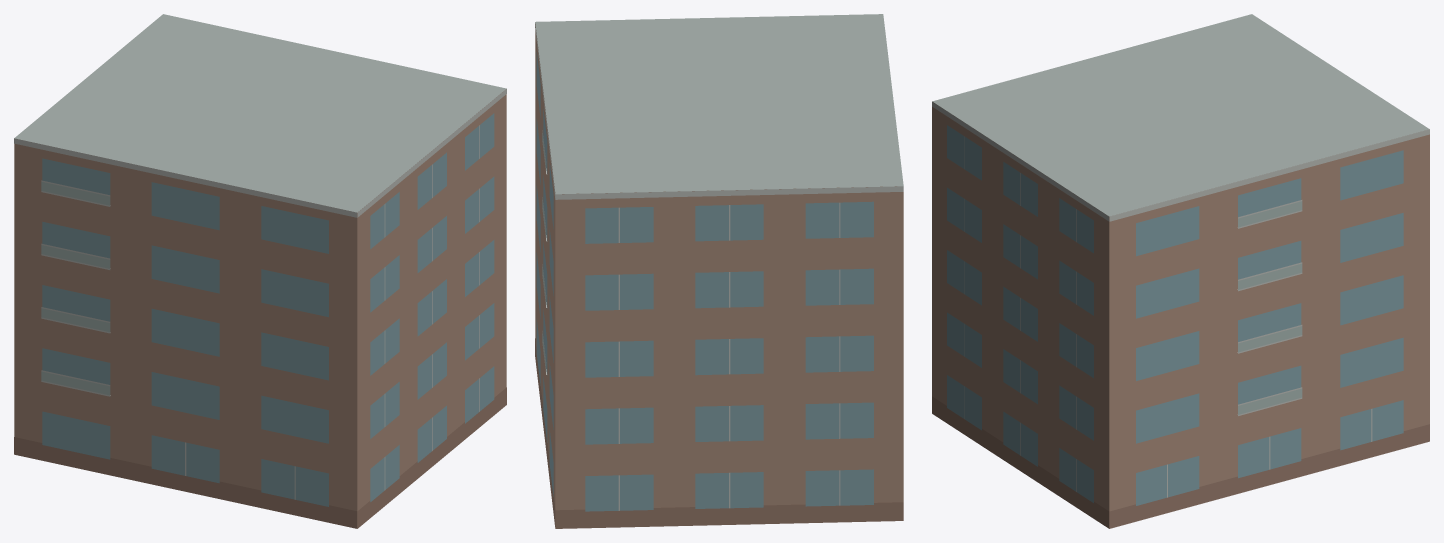
Rendered from survey-upis-32726446.glb.
3 renders of one model, left to right at view 1: azimuth 30°, elevation 25°; view 2: azimuth 150°, elevation 25°; view 3: azimuth 270°, elevation 25°, orthographic. The views are drawn at different scales.
Visible parts, largest first — view 1: survey-upis-32726446.tmp; view 2: survey-upis-32726446.tmp; view 3: survey-upis-32726446.tmp.
Boxes of the visible parts, x1,y1,x2,y2 form: survey-upis-32726446.tmp: [14, 14, 506, 528]; survey-upis-32726446.tmp: [535, 14, 903, 528]; survey-upis-32726446.tmp: [932, 14, 1429, 528].
Bounding box in the file's own units: 20.32 × 14.6 × 21.1.
